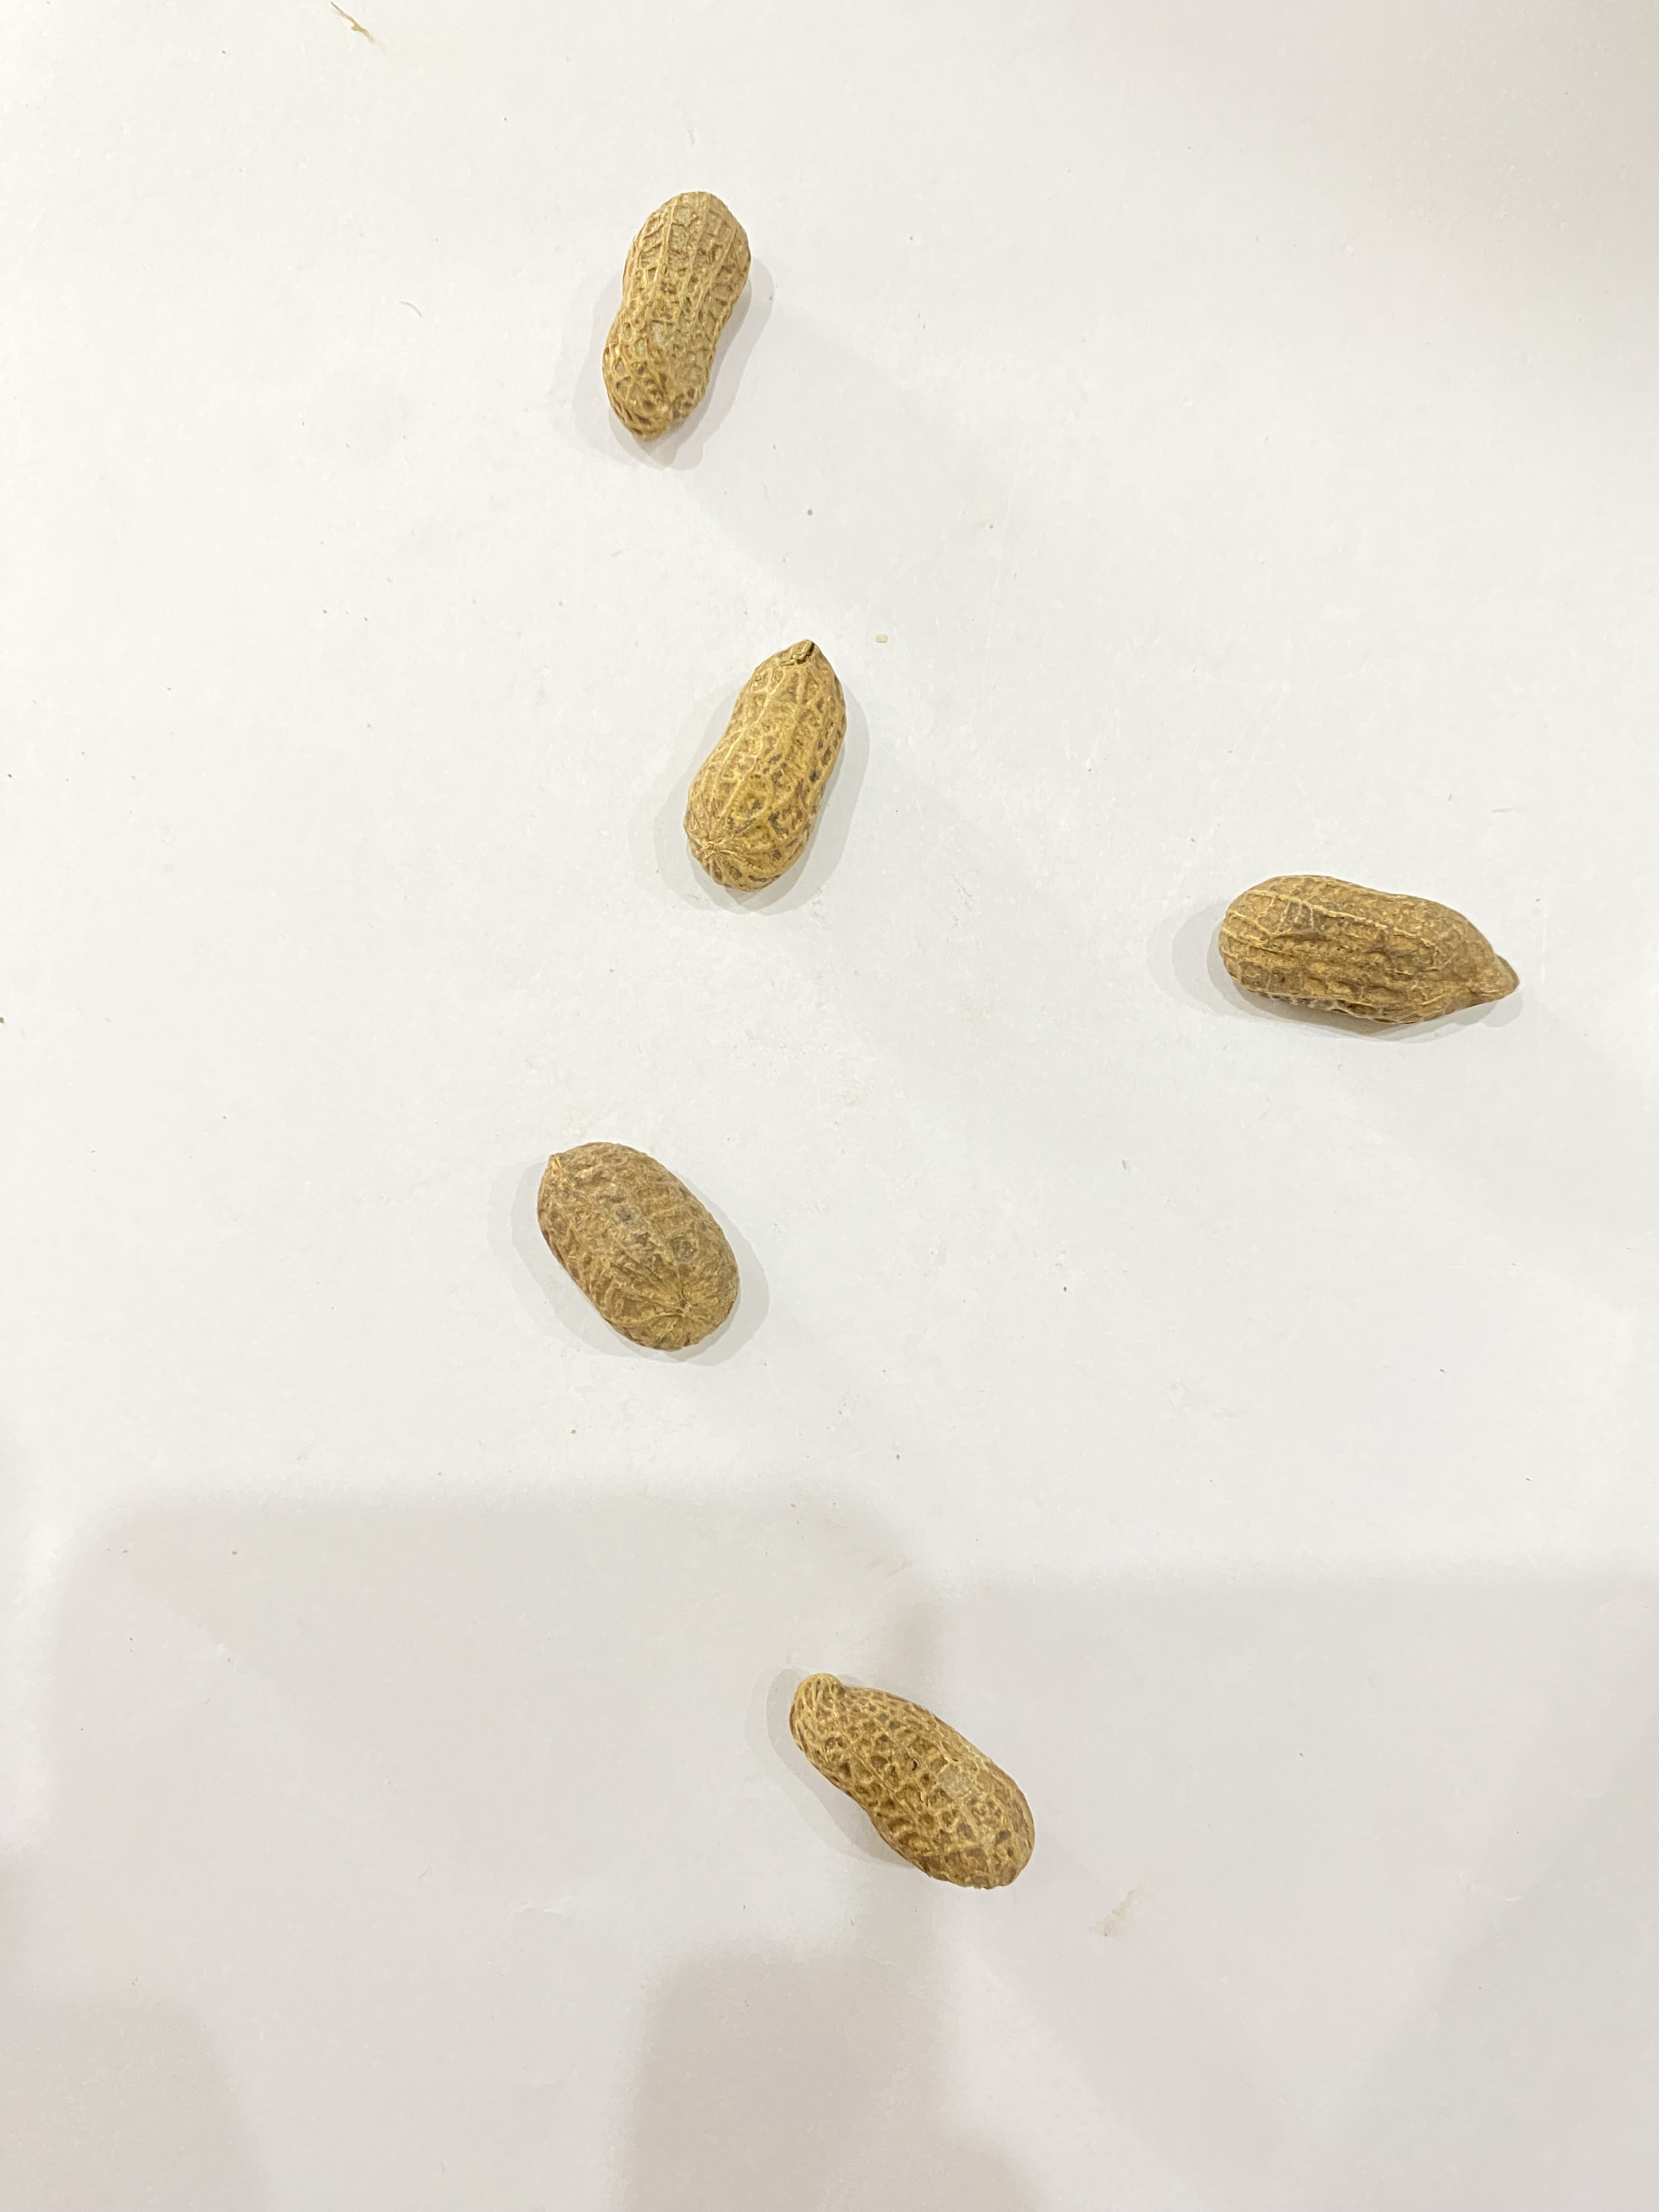kacang1: (516, 1134, 800, 1378)
kacang2: (732, 1644, 1087, 1905), (1199, 846, 1525, 1026), (667, 631, 871, 911), (586, 186, 772, 435)
